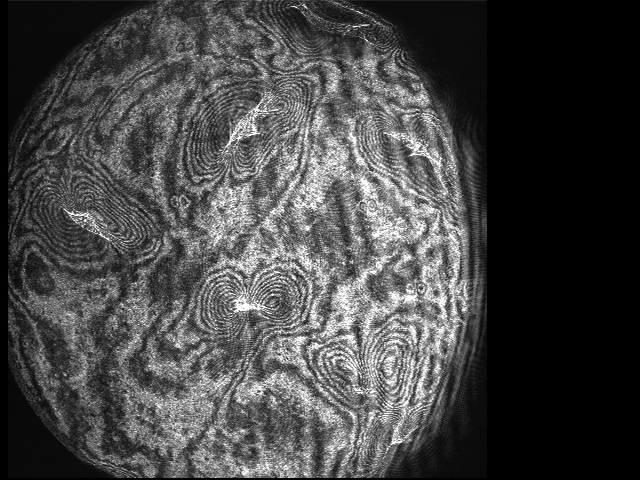plume: (186, 80, 302, 175), (32, 178, 154, 267), (194, 273, 301, 338)
